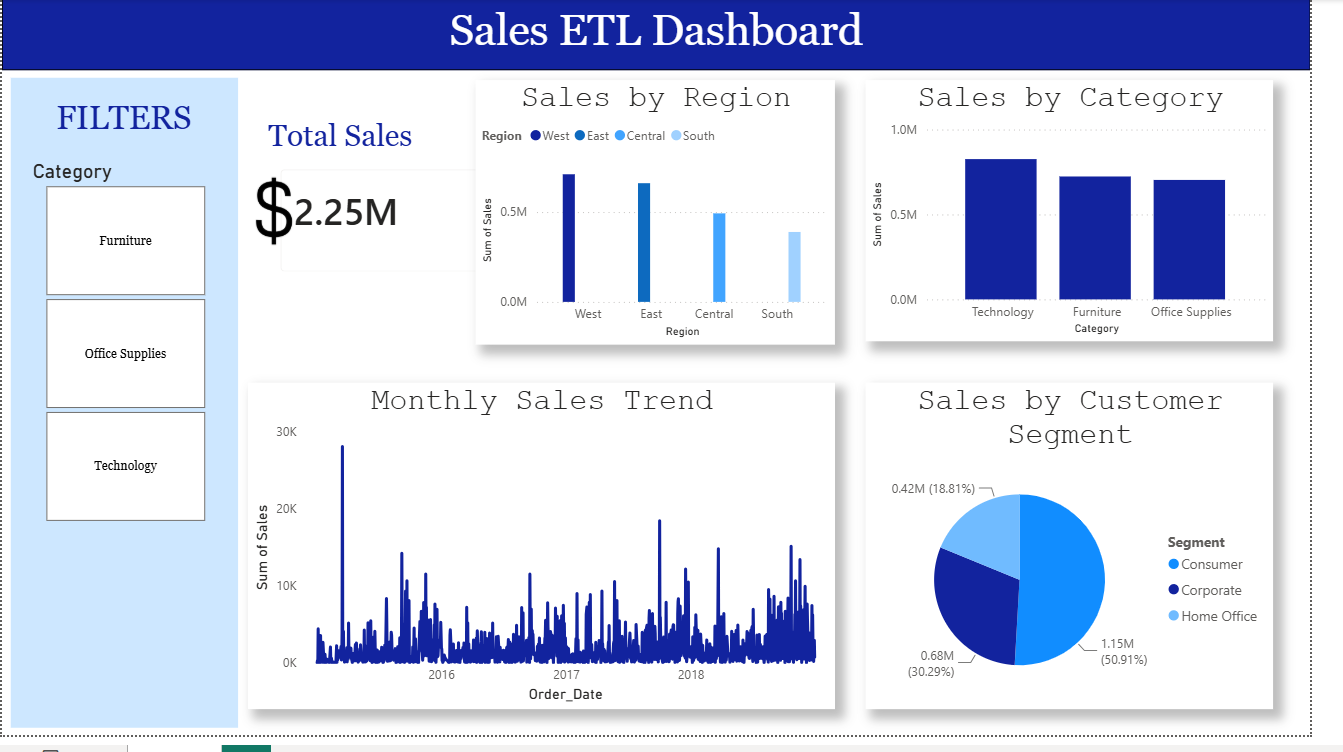

Layout of this report page (visuals, bound fields, positions):
{"tool":"powerbi","page":{"name":"Page 1","canvas":[1280,720],"ordinal":0},"visuals":[{"type":"shape","box":[8.6,77,222.6,635.9],"z":0},{"type":"cardVisual","title":"Total Sales","fields":{"Data":["Sum(Fact_Sales.Sales)","Sum(Fact_Sales.Sales)","Sum(Fact_Sales.Sales)"]},"box":[255.6,116.2,255.6,168],"z":1000},{"type":"clusteredColumnChart","title":"Sales by Category","fields":{"Category":["Dim_Product.Category"],"Y":["Sum(Fact_Sales.Sales)"]},"box":[845,79.5,398.6,255.6],"z":2000},{"type":"clusteredColumnChart","title":"Sales by Region","fields":{"Category":["Dim_Location.Region"],"Y":["Sum(Fact_Sales.Sales)"],"Series":["Dim_Location.Region"]},"box":[463.5,79.5,351,258],"z":3000},{"type":"lineChart","title":"Monthly Sales Trend","fields":{"Y":["Sum(Fact_Sales.Sales)"],"Category":["Dim_Date.Order_Date"]},"box":[240.9,375.4,573.5,319.2],"z":4000},{"type":"pieChart","title":"Sales by Customer Segment","fields":{"Category":["Dim_Customer.Segment"],"Y":["Sum(Fact_Sales.Sales)"]},"box":[845,375.4,398.6,319.2],"z":5000},{"type":"slicer","title":"Filter by category","fields":{"Values":["Dim_Product.Category"]},"box":[17.1,152.9,205.4,364.4],"z":6000},{"type":"textbox","box":[0,0,1280.3,69.7],"z":7000},{"type":"textbox","box":[46.5,92.9,145.5,46.5],"z":8000},{"type":"image","box":[231.1,119.8,69.7,174.9],"z":9000}]}

Visuals, with their boxes in screenshot pixels (x1, y1, x2, y2), scaled from the page's 1280x720 canvas onto the 1343x752 screenshot:
shape: x1=9 y1=80 x2=243 y2=745
"Total Sales" cardVisual: x1=268 y1=121 x2=536 y2=297
"Sales by Category" clusteredColumnChart: x1=887 y1=83 x2=1305 y2=350
"Sales by Region" clusteredColumnChart: x1=486 y1=83 x2=855 y2=352
"Monthly Sales Trend" lineChart: x1=253 y1=392 x2=854 y2=725
"Sales by Customer Segment" pieChart: x1=887 y1=392 x2=1305 y2=725
"Filter by category" slicer: x1=18 y1=160 x2=233 y2=540
textbox: x1=0 y1=0 x2=1342 y2=73
textbox: x1=49 y1=97 x2=201 y2=146
image: x1=242 y1=125 x2=316 y2=308
